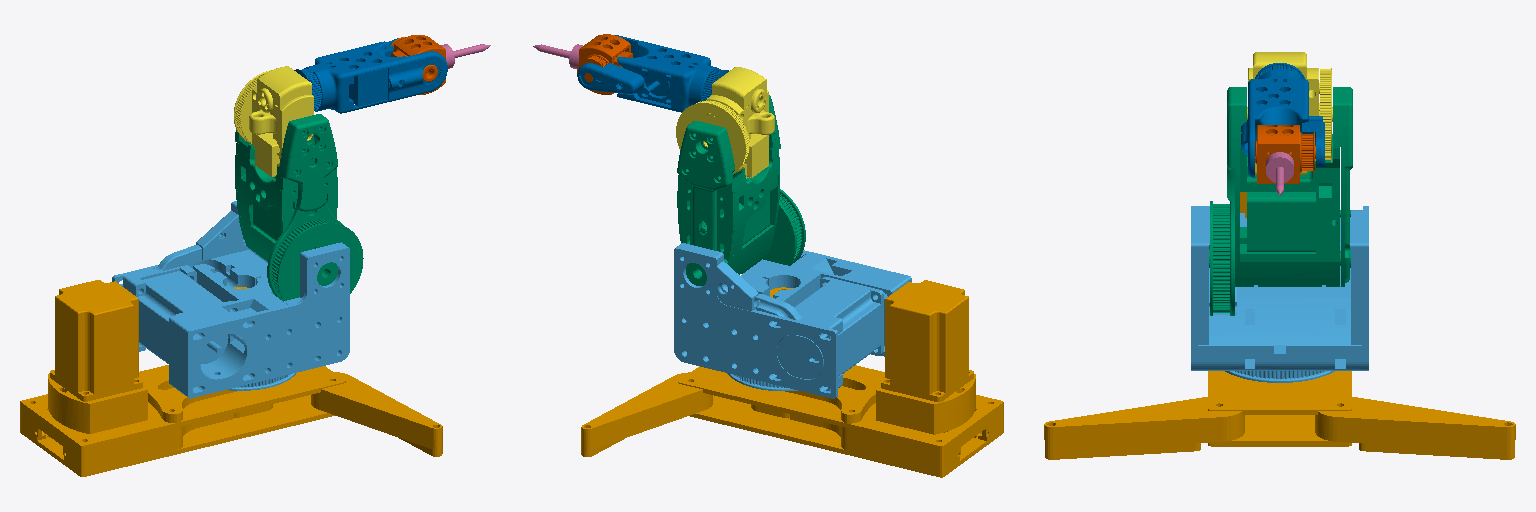
The robot description file, URDF, robot "myRobot":
<?xml version="1.0" ?>
<robot name="myRobot">

<material name="silver">
  <color rgba="0.700 0.700 0.700 1.000"/>
</material>

<link name="base_link">
  <inertial>
    <origin xyz="-0.0663329910692469 1.6648514756135052e-10 0.04319689067385417" rpy="0 0 0"/>
    <mass value="6.238379127941278"/>
    <inertia ixx="0.020085464459541957" iyy="0.05389336963520394" izz="0.05737385922682157" ixy="1.359974293430949e-10" iyz="1.7845079182006862e-11" ixz="0.009783382227592997"/>
  </inertial>
  <visual>
    <origin xyz="0 0 0" rpy="0 0 0"/>
    <geometry>
      <mesh filename="meshes/base_link.stl" scale="0.001 0.001 0.001"/>
    </geometry>
    <material name="silver"/>
    <material/>
  </visual>
  <collision>
    <origin xyz="0 0 0" rpy="0 0 0"/>
    <geometry>
      <mesh filename="meshes/base_link.stl" scale="0.001 0.001 0.001"/>
    </geometry>
  </collision>
</link>

<link name="link_1">
  <inertial>
    <origin xyz="-0.004979514597552236 0.0017412433979897071 0.08176727284444567" rpy="0 0 0"/>
    <mass value="7.150756539642352"/>
    <inertia ixx="0.01253109521258583" iyy="0.014986664910433142" izz="0.020937007045617944" ixy="1.3882424223531087e-05" iyz="-0.00031386720960874617" ixz="-5.681939601116532e-06"/>
  </inertial>
  <visual>
    <origin xyz="-0.0 -0.0 -0.0" rpy="0 0 0"/>
    <geometry>
      <mesh filename="meshes/axis_11.stl" scale="0.001 0.001 0.001"/>
    </geometry>
    <material name="silver"/>
    <material/>
  </visual>
  <collision>
    <origin xyz="-0.0 -0.0 -0.0" rpy="0 0 0"/>
    <geometry>
      <mesh filename="meshes/axis_11.stl" scale="0.001 0.001 0.001"/>
    </geometry>
  </collision>
</link>

<link name="link_2">
  <inertial>
    <origin xyz="-0.0006827464358367119 -0.0018440234395384646 0.03140819848672641" rpy="0 0 0"/>
    <mass value="2.910751665071694"/>
    <inertia ixx="0.00655990194158193" iyy="0.004386123762810293" izz="0.0033640651258631986" ixy="2.8873712332730948e-05" iyz="-0.0008924904426586793" ixz="4.5572060746897763e-05"/>
  </inertial>
  <visual>
    <origin xyz="-0.047 0.0 -0.135" rpy="0 0 0"/>
    <geometry>
      <mesh filename="meshes/axis_21.stl" scale="0.001 0.001 0.001"/>
    </geometry>
    <material name="silver"/>
    <material/>
  </visual>
  <collision>
    <origin xyz="-0.047 0.0 -0.135" rpy="0 0 0"/>
    <geometry>
      <mesh filename="meshes/axis_21.stl" scale="0.001 0.001 0.001"/>
    </geometry>
  </collision>
</link>

<link name="link_3">
  <inertial>
    <origin xyz="-0.005661733937827346 0.007846239024648703 -0.0008234995092410435" rpy="0 0 0"/>
    <mass value="1.0293401184057247"/>
    <inertia ixx="0.0008009438713296665" iyy="0.0006359912860416095" izz="0.0004419835175163609" ixy="-3.690648969409101e-05" iyz="-3.610664941648429e-06" ixz="-5.223506065223094e-07"/>
  </inertial>
  <visual>
    <origin xyz="-0.047 -0.0 -0.245" rpy="0 0 0"/>
    <geometry>
      <mesh filename="meshes/axis_31.stl" scale="0.001 0.001 0.001"/>
    </geometry>
    <material name="silver"/>
    <material/>
  </visual>
  <collision>
    <origin xyz="-0.047 -0.0 -0.245" rpy="0 0 0"/>
    <geometry>
      <mesh filename="meshes/axis_31.stl" scale="0.001 0.001 0.001"/>
    </geometry>
  </collision>
</link>

<link name="link_4">
  <inertial>
    <origin xyz="0.057992232600621446 -0.0004721002661388854 7.6071477062567006e-06" rpy="0 0 0"/>
    <mass value="0.8594282588356511"/>
    <inertia ixx="0.00023087893253000147" iyy="0.000843770434663188" izz="0.0009214598678312976" ixy="-5.123756710532246e-06" iyz="-3.0102261543347476e-09" ixz="3.969195676023496e-07"/>
  </inertial>
  <visual>
    <origin xyz="-0.047 -0.0 -0.271" rpy="0 0 0"/>
    <geometry>
      <mesh filename="meshes/axis_41.stl" scale="0.001 0.001 0.001"/>
    </geometry>
    <material name="silver"/>
    <material/>
  </visual>
  <collision>
    <origin xyz="-0.047 -0.0 -0.271" rpy="0 0 0"/>
    <geometry>
      <mesh filename="meshes/axis_41.stl" scale="0.001 0.001 0.001"/>
    </geometry>
  </collision>
</link>

<link name="link_5">
  <inertial>
    <origin xyz="0.0009774410347654638 0.0024433191349583147 -0.000330095730641633" rpy="0 0 0"/>
    <mass value="0.24924653449966974"/>
    <inertia ixx="5.3846547781975784e-05" iyy="4.259648165164456e-05" izz="5.540340624870556e-05" ixy="1.0421768835493331e-06" iyz="-2.8780518156822196e-07" ixz="-1.579942183766586e-07"/>
  </inertial>
  <visual>
    <origin xyz="-0.1645 -0.0 -0.271" rpy="0 0 0"/>
    <geometry>
      <mesh filename="meshes/axis_51.stl" scale="0.001 0.001 0.001"/>
    </geometry>
    <material name="silver"/>
    <material/>
  </visual>
  <collision>
    <origin xyz="-0.1645 -0.0 -0.271" rpy="0 0 0"/>
    <geometry>
      <mesh filename="meshes/axis_51.stl" scale="0.001 0.001 0.001"/>
    </geometry>
  </collision>
</link>

<link name="link_6">
  <inertial>
    <origin xyz="0.008088496269789719 -2.5179779256966433e-16 0.00019547946911485647" rpy="0 0 0"/>
    <mass value="0.03343004335969639"/>
    <inertia ixx="1.2223645107336048e-06" iyy="5.256944346173666e-06" izz="5.21232245349933e-06" ixy="1.6060039963734032e-21" iyz="8.29787871738478e-22" ixz="6.694268275212606e-08"/>
  </inertial>
  <visual>
    <origin xyz="-0.1895 0.0 -0.271102" rpy="0 0 0"/>
    <geometry>
      <mesh filename="meshes/axis_61.stl" scale="0.001 0.001 0.001"/>
    </geometry>
    <material name="silver"/>
    <material/>
  </visual>
  <collision>
    <origin xyz="-0.1895 0.0 -0.271102" rpy="0 0 0"/>
    <geometry>
      <mesh filename="meshes/axis_61.stl" scale="0.001 0.001 0.001"/>
    </geometry>
  </collision>
</link>

<link name="tool0"/>

<joint name="joint_1" type="revolute">
  <origin rpy="0 0 0" xyz="0 0 0"/>
  <parent link="base_link"/>
  <child link="link_1"/>
  <limit effort="0" lower="-2.87979" upper="2.87979" velocity="4.36332"/>
  <axis xyz="0 0 1"/>
  <dynamics damping="0.0" friction="0.0"/>
</joint>

<joint name="joint_2" type="revolute">
  <origin xyz="0.047 0 0.135" rpy="0 0 0"/>
  <parent link="link_1"/>
  <child link="link_2"/>
  <limit effort="0" lower="-1.91986" upper="1.91986" velocity="4.36332"/>
  <axis xyz="0 1 0"/>
  <dynamics damping="0.0" friction="0.0"/>
</joint>

<joint name="joint_3" type="revolute">
  <origin xyz="0 0 0.11" rpy="0 0 0"/>
  <parent link="link_2"/>
  <child link="link_3"/>
  <limit effort="0" lower="-1.91986" upper="1.22173" velocity="4.36332"/>
  <axis xyz="0 1 0"/>
  <dynamics damping="0.0" friction="0.0"/>
</joint>

<joint name="joint_4" type="revolute">
  <origin xyz="0 0 0.026" rpy="0 0 0"/>
  <parent link="link_3"/>
  <child link="link_4"/>
  <limit effort="0" lower="-2.79253" upper="2.79253" velocity="5.58505"/>
  <axis xyz="1 0 0"/>
  <dynamics damping="0.0" friction="0.0"/>
</joint>

<joint name="joint_5" type="revolute">
  <origin xyz="0.1175 0 0" rpy="0 0 0"/>
  <parent link="link_4"/>
  <child link="link_5"/>
  <limit effort="0" lower="-2.094395" upper="2.094395" velocity="5.58505"/>
  <axis xyz="0 1 0"/>
  <dynamics damping="0.0" friction="0.0"/>
</joint>

<joint name="joint_6" type="revolute">
  <origin xyz="0.02065 0.0 0.0" rpy="0 0 0"/>
  <parent link="link_5"/>
  <child link="link_6"/>
  <limit effort="0" lower="-6.98132" upper="6.98132" velocity="7.33038"/>
  <axis xyz="1 0 0"/>
  <dynamics damping="0.0" friction="0.0"/>
</joint>

<joint name="joint6-tool0" type="fixed">
  <parent link="link_6"/>
  <child link="tool0"/>
  <origin rpy="0 0 0" xyz="0.046 0 0"/>
</joint>

</robot>

--- Render facts (derived) ---
3 views of the same robot in one strip: view 1: azimuth 30°, elevation 25°; view 2: azimuth 150°, elevation 25°; view 3: azimuth 270°, elevation 25° (orthographic).
Model myRobot with 8 links and 7 joints (6 revolute, 1 fixed), rooted at base_link, posed every joint at zero.
Visible links, largest first — view 1: base_link, link_1, link_2, link_4, link_3, link_5; view 2: base_link, link_1, link_2, link_4, link_3, link_5; view 3: base_link, link_2, link_1, link_4, link_5, link_3, link_6.
Boxes of the visible links, left/top/right/bottom form: base_link: left=20, top=280, right=442, bottom=476; link_1: left=112, top=201, right=349, bottom=398; link_2: left=235, top=114, right=363, bottom=301; link_4: left=294, top=38, right=447, bottom=113; link_3: left=234, top=66, right=313, bottom=176; link_5: left=391, top=35, right=445, bottom=94; base_link: left=581, top=280, right=1003, bottom=477; link_1: left=674, top=243, right=911, bottom=398; link_2: left=677, top=95, right=805, bottom=285; link_4: left=577, top=35, right=728, bottom=112; link_3: left=676, top=67, right=774, bottom=178; link_5: left=577, top=34, right=632, bottom=94; base_link: left=1044, top=192, right=1515, bottom=459; link_2: left=1209, top=87, right=1352, bottom=315; link_1: left=1191, top=206, right=1368, bottom=382; link_4: left=1241, top=63, right=1324, bottom=177; link_5: left=1255, top=125, right=1315, bottom=183; link_3: left=1247, top=52, right=1332, bottom=174; link_6: left=1266, top=152, right=1293, bottom=194.
Size in the robot's own frame: 0.4112 by 0.3264 by 0.2902 metres.
7 mesh visuals loaded from 7 distinct referenced files (7 binary STL).
